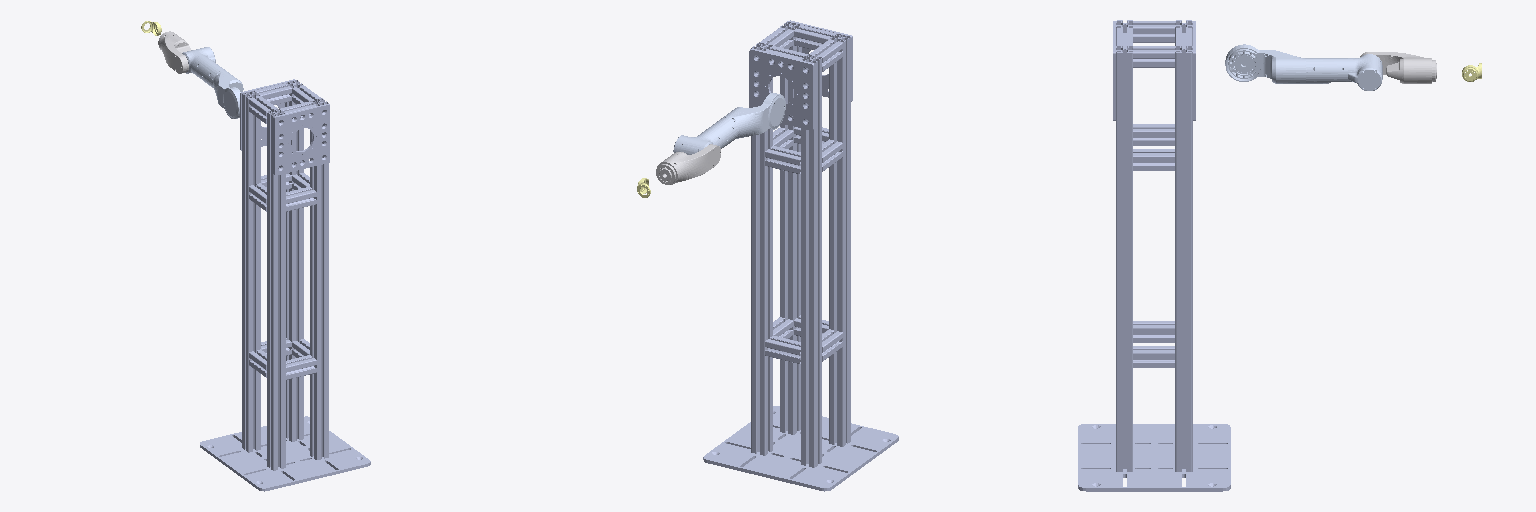
The robot description file, URDF, robot "taihu_arm_0430":
<?xml version="1.0" encoding="utf-8"?>
<!-- This URDF was automatically created by SolidWorks to URDF Exporter! Originally created by Stephen Brawner (brawner@gmail.com) 
     Commit Version: 1.6.0-4-g7f85cfe  Build Version: 1.6.7995.38578
     For more information, please see http://wiki.ros.org/sw_urdf_exporter -->
<robot
  name="taihu_arm_0430">
  <link
    name="base_link">
    <inertial>
      <origin
        xyz="-1.796E-05 6.0012E-06 -0.62307"
        rpy="0 0 0" />
      <mass
        value="8.6788" />
      <inertia
        ixx="0.27993"
        ixy="4.8177E-18"
        ixz="4.8851E-15"
        iyy="0.28183"
        iyz="-1.7321E-14"
        izz="0.043415" />
    </inertial>
    <visual>
      <origin
        xyz="0 0 0"
        rpy="0 0 0" />
      <geometry>
        <mesh
          filename="meshes/base_link.STL" />
      </geometry>
      <material
        name="">
        <color
          rgba="0.79216 0.81961 0.93333 1" />
      </material>
    </visual>
    <collision>
      <origin
        xyz="0 0 0"
        rpy="0 0 0" />
      <geometry>
        <mesh
          filename="meshes/base_link.STL" />
      </geometry>
    </collision>
  </link>
  <link
    name="left-link_arm_base">
    <inertial>
      <origin
        xyz="-2.277E-05 -3.5452E-06 0.010632"
        rpy="0 0 0" />
      <mass
        value="1.8275" />
      <inertia
        ixx="0.00066481"
        ixy="-6.0041E-08"
        ixz="-6.641E-07"
        iyy="0.00066593"
        iyz="-8.7702E-08"
        izz="0.00074477" />
    </inertial>
    <visual>
      <origin
        xyz="0 0 0"
        rpy="0 0 0" />
      <geometry>
        <mesh
          filename="meshes/left-link_arm_base.STL" />
      </geometry>
      <material
        name="">
        <color
          rgba="0.86667 0.9098 1 1" />
      </material>
    </visual>
    <collision>
      <origin
        xyz="0 0 0"
        rpy="0 0 0" />
      <geometry>
        <mesh
          filename="meshes/left-link_arm_base.STL" />
      </geometry>
    </collision>
  </link>
  <joint
    name="left-joint_arm_base"
    type="fixed">
    <origin
      xyz="0 0.108 0"
      rpy="-1.5708 0 0" />
    <parent
      link="base_link" />
    <child
      link="left-link_arm_base" />
    <axis
      xyz="0 0 0" />
  </joint>
  <link
    name="left-link_arm_1">
    <inertial>
      <origin
        xyz="1.2697E-05 0.001194 -0.0088192"
        rpy="0 0 0" />
      <mass
        value="0.71111" />
      <inertia
        ixx="0.00089531"
        ixy="-4.0887E-07"
        ixz="2.0284E-07"
        iyy="0.00095129"
        iyz="8.9792E-05"
        izz="0.00077837" />
    </inertial>
    <visual>
      <origin
        xyz="0 0 0"
        rpy="0 0 0" />
      <geometry>
        <mesh
          filename="meshes/left-link_arm_1.STL" />
      </geometry>
      <material
        name="">
        <color
          rgba="0.86667 0.9098 1 1" />
      </material>
    </visual>
    <collision>
      <origin
        xyz="0 0 0"
        rpy="0 0 0" />
      <geometry>
        <mesh
          filename="meshes/left-link_arm_1.STL" />
      </geometry>
    </collision>
  </link>
  <joint
    name="left-joint_arm_1"
    type="revolute">
    <origin
      xyz="0 0 0.128"
      rpy="0 0 -1.5708" />
    <parent
      link="left-link_arm_base" />
    <child
      link="left-link_arm_1" />
    <axis
      xyz="0 0 1" />
    <limit
      lower="-3.1"
      upper="3.1"
      effort="100"
      velocity="1" />
  </joint>
  <link
    name="left-link_arm_2">
    <inertial>
      <origin
        xyz="-4.0237E-06 0.088857 0.024138"
        rpy="0 0 0" />
      <mass
        value="2.2852" />
      <inertia
        ixx="0.0021125"
        ixy="-1.338E-07"
        ixz="-2.634E-08"
        iyy="0.00051326"
        iyz="0.00045225"
        izz="0.0021734" />
    </inertial>
    <visual>
      <origin
        xyz="0 0 0"
        rpy="0 0 0" />
      <geometry>
        <mesh
          filename="meshes/left-link_arm_2.STL" />
      </geometry>
      <material
        name="">
        <color
          rgba="0.86667 0.9098 1 1" />
      </material>
    </visual>
    <collision>
      <origin
        xyz="0 0 0"
        rpy="0 0 0" />
      <geometry>
        <mesh
          filename="meshes/left-link_arm_2.STL" />
      </geometry>
    </collision>
  </link>
  <joint
    name="left-joint_arm_2"
    type="revolute">
    <origin
      xyz="0 0 0"
      rpy="1.5708 0 0" />
    <parent
      link="left-link_arm_1" />
    <child
      link="left-link_arm_2" />
    <axis
      xyz="0 0 1" />
    <limit
      lower="-2.007"
      upper="2.007"
      effort="100"
      velocity="1" />
  </joint>
  <link
    name="left-link_arm_3">
    <inertial>
      <origin
        xyz="0.00035001 0.0021397 -0.036668"
        rpy="0 0 0" />
      <mass
        value="0.47386" />
      <inertia
        ixx="0.0011486"
        ixy="-4.0334E-07"
        ixz="-8.0327E-07"
        iyy="0.0010776"
        iyz="4.6286E-05"
        izz="0.00024811" />
    </inertial>
    <visual>
      <origin
        xyz="0 0 0"
        rpy="0 0 0" />
      <geometry>
        <mesh
          filename="meshes/left-link_arm_3.STL" />
      </geometry>
      <material
        name="">
        <color
          rgba="0.86667 0.9098 1 1" />
      </material>
    </visual>
    <collision>
      <origin
        xyz="0 0 0"
        rpy="0 0 0" />
      <geometry>
        <mesh
          filename="meshes/left-link_arm_3.STL" />
      </geometry>
    </collision>
  </link>
  <joint
    name="left-joint_arm_3"
    type="revolute">
    <origin
      xyz="0 0.329 0"
      rpy="-1.5708 0 0" />
    <parent
      link="left-link_arm_2" />
    <child
      link="left-link_arm_3" />
    <axis
      xyz="0 0 1" />
    <limit
      lower="-3.1"
      upper="3.1"
      effort="100"
      velocity="1" />
  </joint>
  <link
    name="left-link_arm_4">
    <inertial>
      <origin
        xyz="2.2909E-05 0.094944 0.019838"
        rpy="0 0 0" />
      <mass
        value="1.38429" />
      <inertia
        ixx="0.0014918"
        ixy="3.133E-07"
        ixz="1.0393E-07"
        iyy="0.00034865"
        iyz="0.0003108"
        izz="0.0014896" />
    </inertial>
    <visual>
      <origin
        xyz="0 0 0"
        rpy="0 0 0" />
      <geometry>
        <mesh
          filename="meshes/left-link_arm_4.STL" />
      </geometry>
      <material
        name="">
        <color
          rgba="0.8902 0.8902 0.91373 1" />
      </material>
    </visual>
    <collision>
      <origin
        xyz="0 0 0"
        rpy="0 0 0" />
      <geometry>
        <mesh
          filename="meshes/left-link_arm_4.STL" />
      </geometry>
    </collision>
  </link>
  <joint
    name="left-joint_arm_4"
    type="revolute">
    <origin
      xyz="0 0 0"
      rpy="1.5708 0 0" />
    <parent
      link="left-link_arm_3" />
    <child
      link="left-link_arm_4" />
    <axis
      xyz="0 0 1" />
    <limit
      lower="-2.53"
      upper="2.05"
      effort="100"
      velocity="1" />
  </joint>
  <link
    name="left-link_arm_5">
    <inertial>
      <origin
        xyz="0.00052226 0.0035059 -0.057368"
        rpy="0 0 0" />
      <mass
        value="0.3908" />
      <inertia
        ixx="0.00010308"
        ixy="4.47E-08"
        ixz="-1.5508E-08"
        iyy="0.00010344"
        iyz="3.6968E-06"
        izz="8.3821E-05" />
    </inertial>
    <visual>
      <origin
        xyz="0 0 0"
        rpy="0 0 0" />
      <geometry>
        <mesh
          filename="meshes/left-link_arm_5.STL" />
      </geometry>
      <material
        name="">
        <color
          rgba="0.8902 0.8902 0.91373 1" />
      </material>
    </visual>
    <collision>
      <origin
        xyz="0 0 0"
        rpy="0 0 0" />
      <geometry>
        <mesh
          filename="meshes/left-link_arm_5.STL" />
      </geometry>
    </collision>
  </link>
  <joint
    name="left-joint_arm_5"
    type="revolute">
    <origin
      xyz="0 0.2645 0"
      rpy="1.5708 -1.5708 3.1416" />
    <parent
      link="left-link_arm_4" />
    <child
      link="left-link_arm_5" />
    <axis
      xyz="0 0 1" />
    <limit
      lower="-3.1"
      upper="3.1"
      effort="100"
      velocity="1" />
  </joint>
  <link
    name="left-link_arm_6">
    <inertial>
      <origin
        xyz="-2.2487E-06 -0.010876 -0.00036603"
        rpy="0 0 0" />
      <mass
        value="0.298376" />
      <inertia
        ixx="3.082E-05"
        ixy="2.9603E-08"
        ixz="-2.2931E-09"
        iyy="2.8341E-05"
        iyz="-4.0543E-07"
        izz="3.051E-05" />
    </inertial>
    <visual>
      <origin
        xyz="0 0 0"
        rpy="0 0 0" />
      <geometry>
        <mesh
          filename="meshes/left-link_arm_6.STL" />
      </geometry>
      <material
        name="">
        <color
          rgba="0.79216 0.81961 0.93333 1" />
      </material>
    </visual>
    <collision>
      <origin
        xyz="0 0 0"
        rpy="0 0 0" />
      <geometry>
        <mesh
          filename="meshes/left-link_arm_6.STL" />
      </geometry>
    </collision>
  </link>
  <joint
    name="left-joint_arm_6"
    type="revolute">
    <origin
      xyz="0 0 0"
      rpy="1.5708 -1.5708 0" />
    <parent
      link="left-link_arm_5" />
    <child
      link="left-link_arm_6" />
    <axis
      xyz="0 0 1" />
    <limit
      lower="-0.69"
      upper="0.69"
      effort="100"
      velocity="1" />
  </joint>

  <link
    name="left-link_arm_7">
    <inertial>
      <origin
        xyz="1.6729E-06 0.010082 -0.013139"
        rpy="0 0 0" />
      <mass
        value="0.027272" />
      <inertia
        ixx="1.1686E-05"
        ixy="5.5819E-10"
        ixz="-2.5012E-11"
        iyy="8.5763E-06"
        iyz="-3.4659E-06"
        izz="1.1784E-05" />
    </inertial>
    <visual>
      <origin
        xyz="0 0 0"
        rpy="0 0 0" />
      <geometry>
        <mesh
          filename="meshes/left-link_arm_7.STL" />
      </geometry>
      <material
        name="">
        <color
          rgba="1 1 0.75294 1" />
      </material>
    </visual>
    <collision>
      <origin
        xyz="0 0 0"
        rpy="0 0 0" />
      <geometry>
        <mesh
          filename="meshes/left-link_arm_7.STL" />
      </geometry>
    </collision>
  </link>

  <joint
    name="left-joint_arm_7"
    type="revolute">
    <origin
      xyz="0 0 0"
      rpy="1.5708 1.5708 0" />
    <parent
      link="left-link_arm_6" />
    <child
      link="left-link_arm_7" />
    <axis
      xyz="0 0 1" />
    <limit
      lower="-1.39"
      upper="1.39"
      effort="100"
      velocity="1" />
  </joint>

  <link
    name="left-link_gripper_base">
    <inertial>
      <origin
        xyz="-0.0010556 4.8489E-05 0.090559"
        rpy="0 0 0" />
      <mass
        value="0.85687" />
      <inertia
        ixx="0.00011118"
        ixy="2.7529E-06"
        ixz="1.1709E-06"
        iyy="0.00025447"
        iyz="-4.1104E-07"
        izz="0.00024307" />
    </inertial>
    <visual>
      <origin
        xyz="0 0 0"
        rpy="0 0 0" />
      <geometry>
        <mesh
          filename="meshes/left-link_gripper_base.STL" />
      </geometry>
      <material
        name="">
        <color
          rgba="0.79216 0.81961 0.93333 1" />
      </material>
    </visual>
    <collision>
      <origin
        xyz="0 0 0"
        rpy="0 0 0" />
      <geometry>
        <mesh
          filename="meshes/left-link_gripper_base.STL" />
      </geometry>
    </collision>
  </link>
  
  <joint
    name="left-joint_gripper_base"
    type="fixed">
    <origin
      xyz="0 0 0"
      rpy="-1.5708 1.5708 0" />
    <parent
      link="left-link_arm_7" />
    <child
      link="left-link_gripper_base" />
    <axis
      xyz="0 0 0" />
    <limit
      lower="0"
      upper="0"
      effort="0"
      velocity="0" />
  </joint>

  
</robot>

--- What the picture shows (computed from the rendered views, not written in the file) ---
3 views of the same robot in one strip: view 1: azimuth 30°, elevation 25°; view 2: azimuth 150°, elevation 25°; view 3: azimuth 270°, elevation 25° (orthographic).
Model taihu_arm_0430 with 10 links and 9 joints (7 revolute, 2 fixed), rooted at base_link, posed every joint at zero.
Visible links, largest first — view 1: base_link, left-link_arm_2, left-link_arm_4, left-link_arm_3; view 2: base_link, left-link_arm_4, left-link_arm_2, left-link_arm_3; view 3: base_link, left-link_arm_2, left-link_arm_3, left-link_arm_4.
Boxes of the visible links, x1,y1,x2,y2 form: base_link: (200,79,370,491); left-link_arm_2: (212,71,243,118); left-link_arm_4: (158,31,190,73); left-link_arm_3: (182,47,225,87); base_link: (703,20,898,491); left-link_arm_4: (656,144,720,184); left-link_arm_2: (721,93,785,138); left-link_arm_3: (673,118,738,154); base_link: (1078,20,1230,491); left-link_arm_2: (1225,44,1305,83); left-link_arm_3: (1306,54,1382,90); left-link_arm_4: (1360,52,1436,83).
Bounding box of the posed robot: 0.4 × 1.06 × 1.23 m (x, y, z).
5 mesh visuals loaded from 10 distinct referenced files (5 binary STL); not drawn: 5 (reference not matched to a file when rendering).
